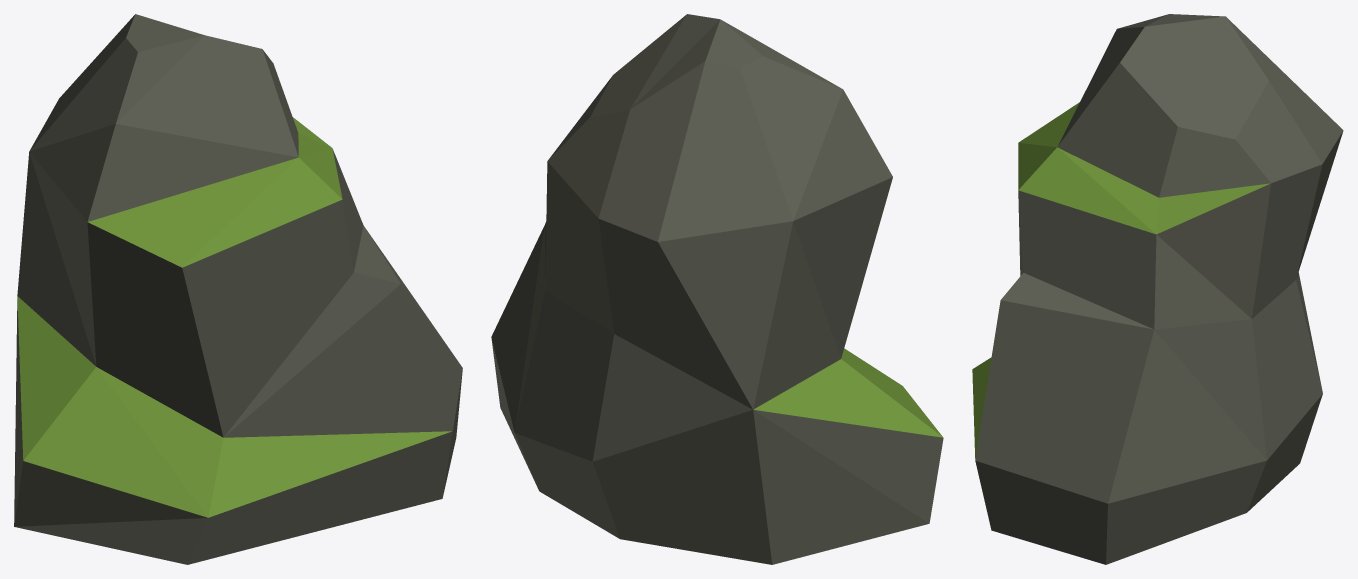
The model's file is green_rock_M_03.fbx.
3 renders of one model, left to right at view 1: azimuth 30°, elevation 25°; view 2: azimuth 150°, elevation 25°; view 3: azimuth 270°, elevation 25°, orthographic. The views are drawn at different scales.
Parts seen in each view (by area): view 1: Cube.001; view 2: Cube.001; view 3: Cube.001.
Boxes of the visible parts, x1,y1,x2,y2 form: Cube.001: (14, 14, 462, 564); Cube.001: (491, 14, 943, 564); Cube.001: (972, 14, 1343, 564).
Size of the model in its own units: 463 by 449 by 352.
